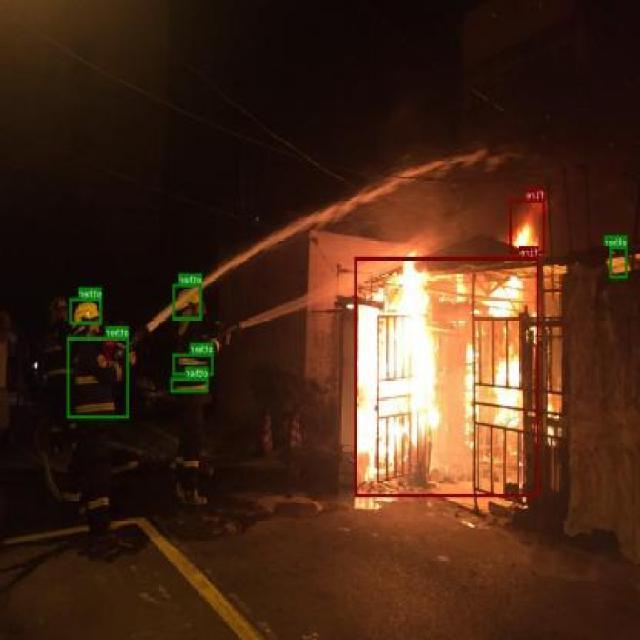Fire: (354, 256, 540, 496), (510, 198, 546, 252)
